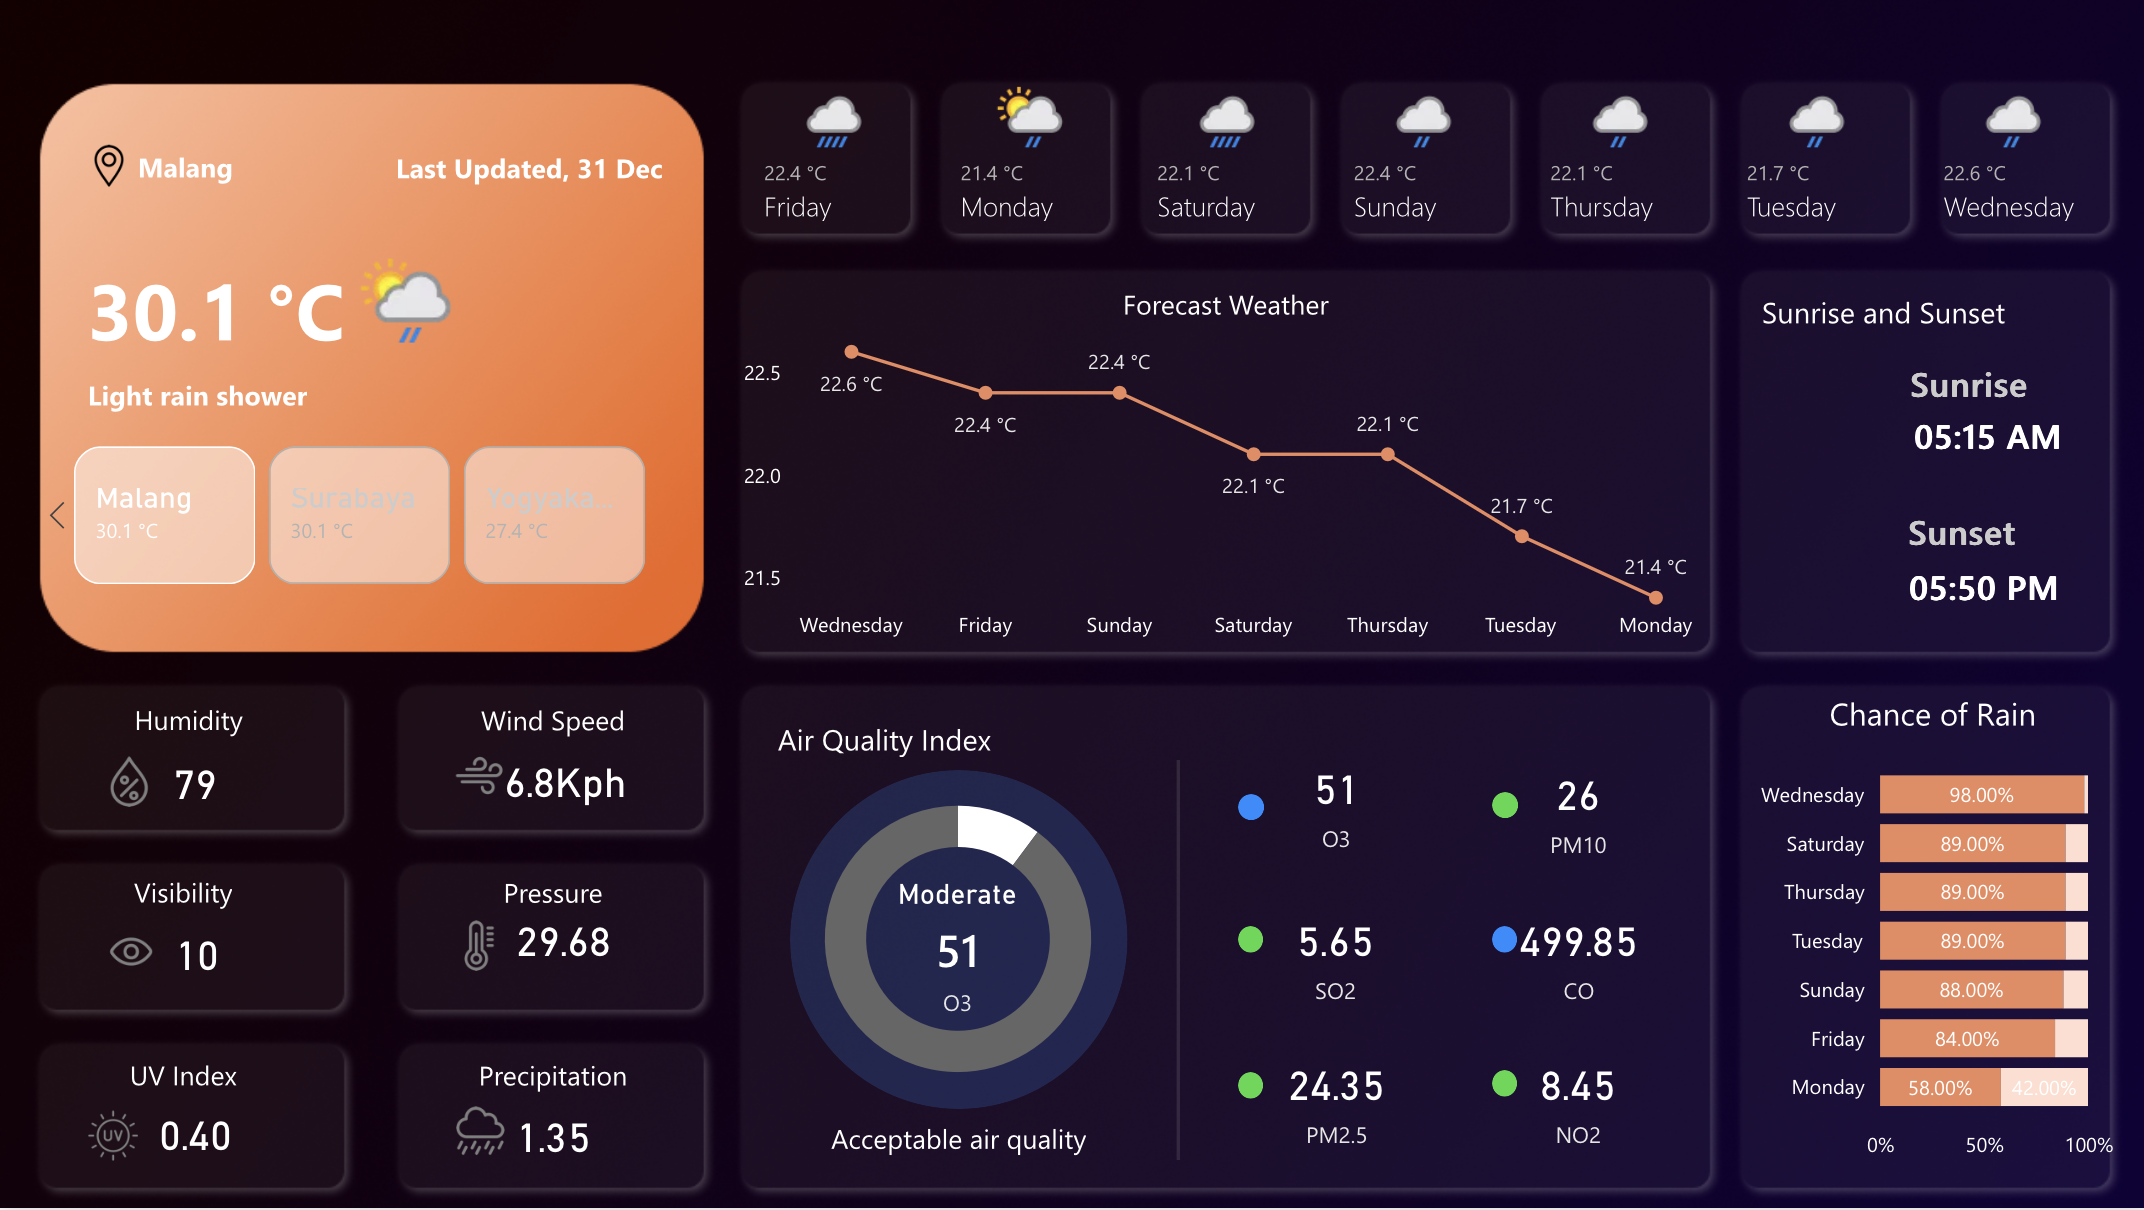

What the dashboard file says about the page in this screenshot:
{"tool":"powerbi","page":{"name":"Page 1","canvas":[1280,720],"ordinal":0},"visuals":[{"type":"advancedSlicerVisual","fields":{"Values":["Location.location.name"],"Label":["_Measures.Curr_temp_C"]},"box":[18.6,261.4,390,92.9],"z":0},{"type":"shape","box":[52.5,149.3,373.3,71.7],"z":1000},{"type":"shape","box":[52.5,209.3,383.3,53.3],"z":2000},{"type":"shape","box":[82.5,73.8,155,52.5],"z":3000},{"type":"shape","box":[207.5,73.8,187.5,53.8],"z":4000},{"type":"shape","box":[18.2,410.9,189.1,37.3],"z":5000},{"type":"shape","box":[18.2,511.8,182.7,40],"z":6000},{"type":"shape","box":[18.2,620,182.7,40.9],"z":7000},{"type":"shape","box":[239.1,411.8,180,34.5],"z":8000},{"type":"shape","box":[239.1,519.1,180,26.4],"z":9000},{"type":"shape","box":[239.1,623.6,180,33.6],"z":10000},{"type":"card","fields":{"Values":["Sum(Current.current.humidity)"]},"box":[52.8,442.2,128.3,50.6],"z":11000},{"type":"card","fields":{"Values":["_Measures.Wind_Speed"]},"box":[270,442.7,132.7,46.4],"z":12000},{"type":"card","fields":{"Values":["Sum(Current.current.vis_km)"]},"box":[52.8,542.2,130,54.4],"z":13000},{"type":"card","fields":{"Values":["Sum(Current.current.uv)"]},"box":[52.8,654.4,128.3,42.8],"z":14000},{"type":"card","fields":{"Values":["Sum(Current.current.pressure_in)"]},"box":[264.6,538.2,142.7,45.5],"z":15000},{"type":"card","fields":{"Values":["Sum(Current.current.precip_mm)"]},"box":[258.8,657.5,143.1,40.6],"z":16000},{"type":"advancedSlicerVisual","fields":{"Values":["Forecast_Day.Day_Name"]},"box":[436.7,40,826.7,110],"z":17000},{"type":"lineChart","title":"Forecast Weather","fields":{"Category":["Forecast_Day.Day_Name"],"Y":["Sum(Forecast_Day.forecast.forecastday.day.avgtemp_c)"]},"box":[437.1,171.4,585.7,220],"z":18000},{"type":"shape","box":[1048.6,167.1,191.4,38.6],"z":19000},{"type":"shape","box":[1131.1,223.8,104.6,72.3],"z":20000},{"type":"shape","box":[1129.2,313.9,102.3,70.8],"z":21000},{"type":"shape","box":[1135.4,281.5,112.3,71.5],"z":22000},{"type":"shape","box":[1136.5,193.1,113.1,71.5],"z":23000},{"type":"hundredPercentStackedBarChart","title":"Chance of Rain","fields":{"Y":["Sum(Forecast_Day.forecast.forecastday.day.daily_chance_of_rain)","Current.Left_value_Rain"],"Category":["Forecast_Day.Day_Name"]},"box":[1037.5,412.5,225,287.5],"z":24000},{"type":"shape","box":[463,422,191,38],"z":25000},{"type":"card","fields":{"Values":["Sum(Current.current.air_quality.pm10)"]},"box":[906.3,445.4,67.3,74.5],"z":26000},{"type":"card","fields":{"Values":["Sum(Current.current.air_quality.co)"]},"box":[896.3,531.8,87.3,74.5],"z":27000},{"type":"card","fields":{"Values":["Sum(Current.current.air_quality.no2)"]},"box":[896.3,617.3,86.4,74.5],"z":28000},{"type":"card","fields":{"Values":["Sum(Current.current.air_quality.o3)"]},"box":[761.8,441.8,67.3,74.5],"z":29000},{"type":"card","fields":{"Values":["Sum(Current.current.air_quality.so2)"]},"box":[756.3,531.8,78.2,74.5],"z":30000},{"type":"card","fields":{"Values":["Sum(Current.current.air_quality.pm2_5)"]},"box":[759,617.3,72.7,74.5],"z":31000},{"type":"shape","box":[888.1,473.1,15.6,15.6],"z":32000},{"type":"shape","box":[888.2,551.8,15,15.9],"z":33000},{"type":"shape","box":[888.2,638.2,15,15.9],"z":34000},{"type":"shape","box":[470,460,200.9,201.8],"z":35000},{"type":"shape","box":[737,473.7,15.6,15.6],"z":36000},{"type":"shape","box":[737.1,552.4,15,15.9],"z":37000},{"type":"shape","box":[737.1,638.7,15,15.9],"z":38000},{"type":"shape","box":[665.5,453.6,71.8,238.2],"z":39000},{"type":"card","fields":{"Values":["Sum(Current.current.air_quality.o3)"]},"box":[524.5,526.4,90,85.5],"z":40000},{"type":"donutChart","fields":{"Y":["Sum(Current.current.air_quality.o3)","_Measures.Left_value_O3"]},"box":[445.4,456.4,250,208.2],"z":41000},{"type":"shape","box":[447.3,659.1,246.4,38.2],"z":42000},{"type":"image","box":[271.8,654.5,29.1,39.1],"z":43000},{"type":"image","box":[270,543.6,30,40],"z":44000},{"type":"image","box":[270,442.7,30,40],"z":45000},{"type":"image","box":[61.8,446.4,30,40],"z":46000},{"type":"image","box":[62.7,548.2,30,40],"z":47000},{"type":"image","box":[52.7,657.3,30,40],"z":48000},{"type":"image","box":[52.5,83.1,25,32.5],"z":49000},{"type":"cardVisual","fields":{"Data":["Min(Current.current.condition.icon)"]},"box":[180.6,131.8,113.5,92.9],"z":49001}]}

Visuals, with their boxes in screenshot pixels (x1, y1, x2, y2), scaled from the page's 1280x720 canvas onto the 2144x1210 screenshot:
advancedSlicerVisual - Location.location.name x _Measures.Curr_temp_C: BBox(31, 439, 684, 595)
shape: BBox(88, 251, 713, 371)
shape: BBox(88, 352, 730, 441)
shape: BBox(138, 124, 398, 212)
shape: BBox(348, 124, 662, 214)
shape: BBox(30, 691, 347, 753)
shape: BBox(30, 860, 337, 927)
shape: BBox(30, 1042, 337, 1111)
shape: BBox(400, 692, 702, 750)
shape: BBox(400, 872, 702, 917)
shape: BBox(400, 1048, 702, 1104)
card - Sum(Current.current.humidity): BBox(88, 743, 303, 828)
card - _Measures.Wind_Speed: BBox(452, 744, 675, 822)
card - Sum(Current.current.vis_km): BBox(88, 911, 306, 1003)
card - Sum(Current.current.uv): BBox(88, 1100, 303, 1172)
card - Sum(Current.current.pressure_in): BBox(443, 904, 682, 981)
card - Sum(Current.current.precip_mm): BBox(433, 1105, 673, 1173)
advancedSlicerVisual - Forecast_Day.Day_Name: BBox(731, 67, 2116, 252)
"Forecast Weather" lineChart: BBox(732, 288, 1713, 658)
shape: BBox(1756, 281, 2077, 346)
shape: BBox(1895, 376, 2070, 498)
shape: BBox(1891, 528, 2063, 647)
shape: BBox(1902, 473, 2090, 593)
shape: BBox(1904, 325, 2093, 445)
"Chance of Rain" hundredPercentStackedBarChart: BBox(1738, 693, 2115, 1176)
shape: BBox(776, 709, 1095, 773)
card - Sum(Current.current.air_quality.pm10): BBox(1518, 749, 1631, 874)
card - Sum(Current.current.air_quality.co): BBox(1501, 894, 1648, 1019)
card - Sum(Current.current.air_quality.no2): BBox(1501, 1037, 1646, 1163)
card - Sum(Current.current.air_quality.o3): BBox(1276, 742, 1389, 868)
card - Sum(Current.current.air_quality.so2): BBox(1267, 894, 1398, 1019)
card - Sum(Current.current.air_quality.pm2_5): BBox(1271, 1037, 1393, 1163)
shape: BBox(1488, 795, 1514, 821)
shape: BBox(1488, 927, 1513, 954)
shape: BBox(1488, 1073, 1513, 1099)
shape: BBox(787, 773, 1124, 1112)
shape: BBox(1234, 796, 1261, 822)
shape: BBox(1235, 928, 1260, 955)
shape: BBox(1235, 1073, 1260, 1100)
shape: BBox(1115, 762, 1235, 1163)
card - Sum(Current.current.air_quality.o3): BBox(879, 885, 1029, 1028)
donutChart - Sum(Current.current.air_quality.o3) x _Measures.Left_value_O3: BBox(746, 767, 1165, 1117)
shape: BBox(749, 1108, 1162, 1172)
image: BBox(455, 1100, 504, 1166)
image: BBox(452, 914, 502, 981)
image: BBox(452, 744, 502, 811)
image: BBox(104, 750, 154, 817)
image: BBox(105, 921, 155, 989)
image: BBox(88, 1105, 139, 1172)
image: BBox(88, 140, 130, 194)
cardVisual - Min(Current.current.condition.icon): BBox(303, 221, 493, 378)
